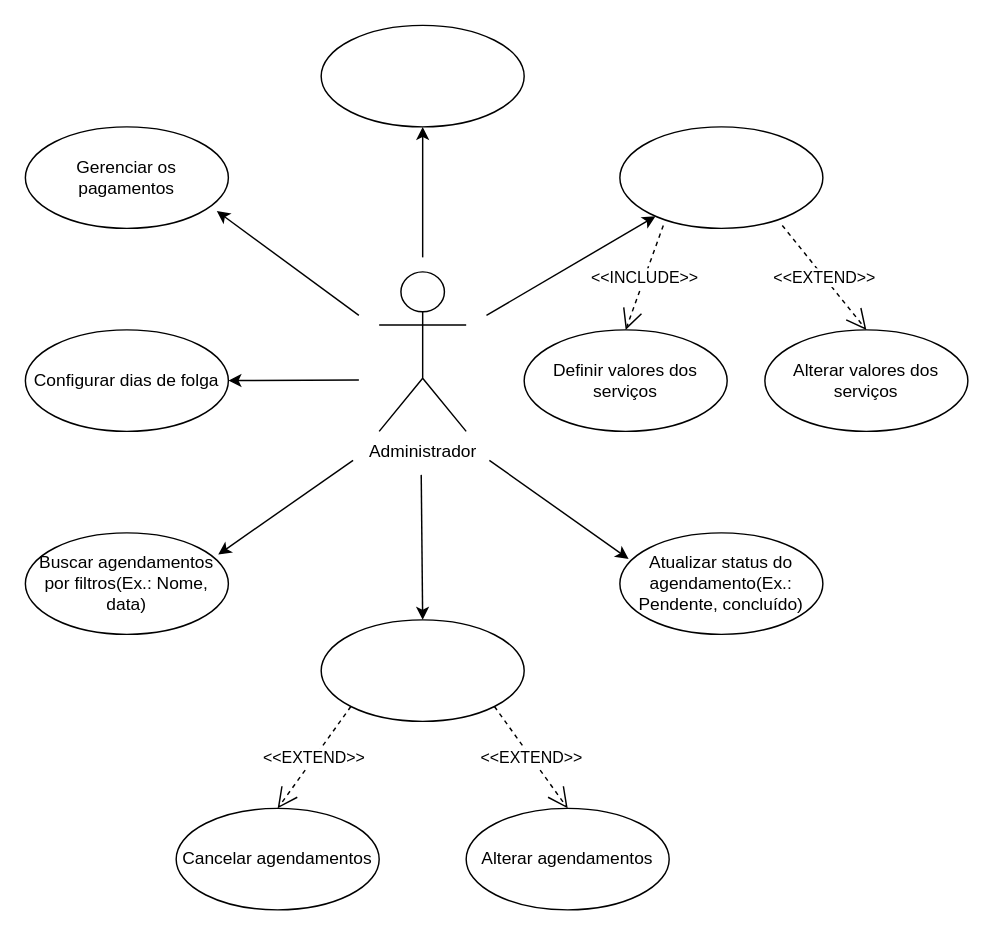
Image size: 993x935. Some labels were removed from this diagram. The centre of each missing label's shape, as x and y in pixels:
Agendar atendimentos: (422,669)
Cadastrar serviços/especializações: (720,176)
Fazer Login: (422,75)
